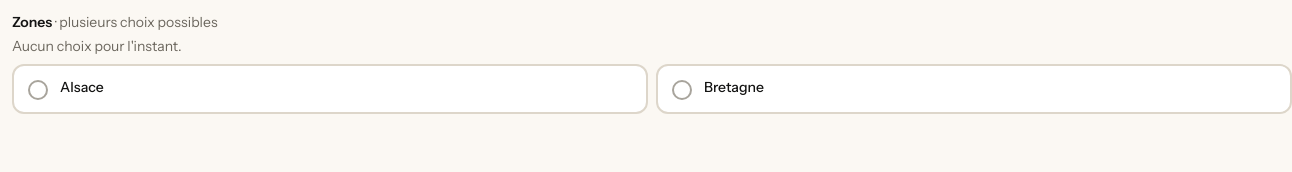
Test: ChoiceGroup — choix multiples très visibles › coche, récapitulatif et désélection
The width and height of the screenshot is (1292, 172).
Later steps or results of the test are not shown.
Click the checkbox with test id "zones-a" at [82, 87], box x1=12 y1=64 x2=648 y2=114
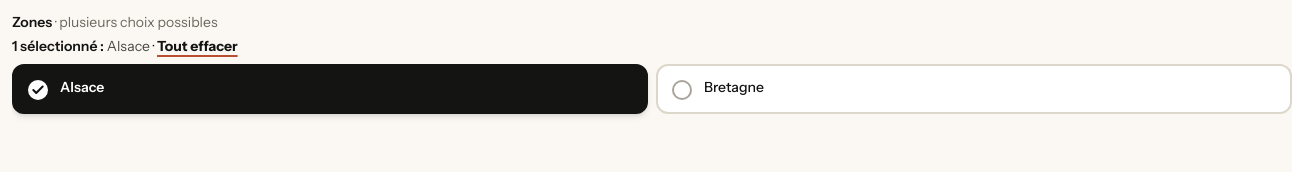
Click the checkbox with test id "zones-b" at [734, 87], box x1=656 y1=64 x2=1291 y2=114
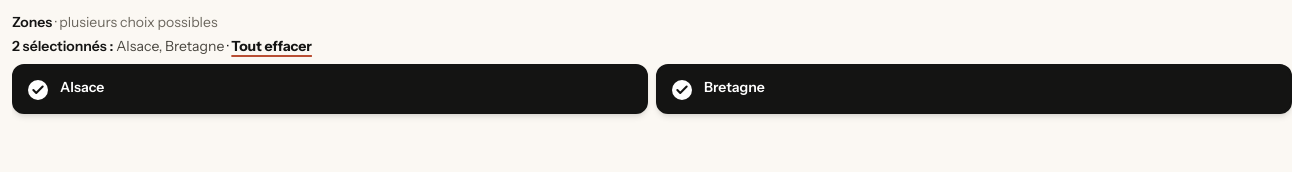
Result: the text "2 sélectionnés : Alsace, Bretagne" is shown at x1=12 y1=36 x2=312 y2=56
